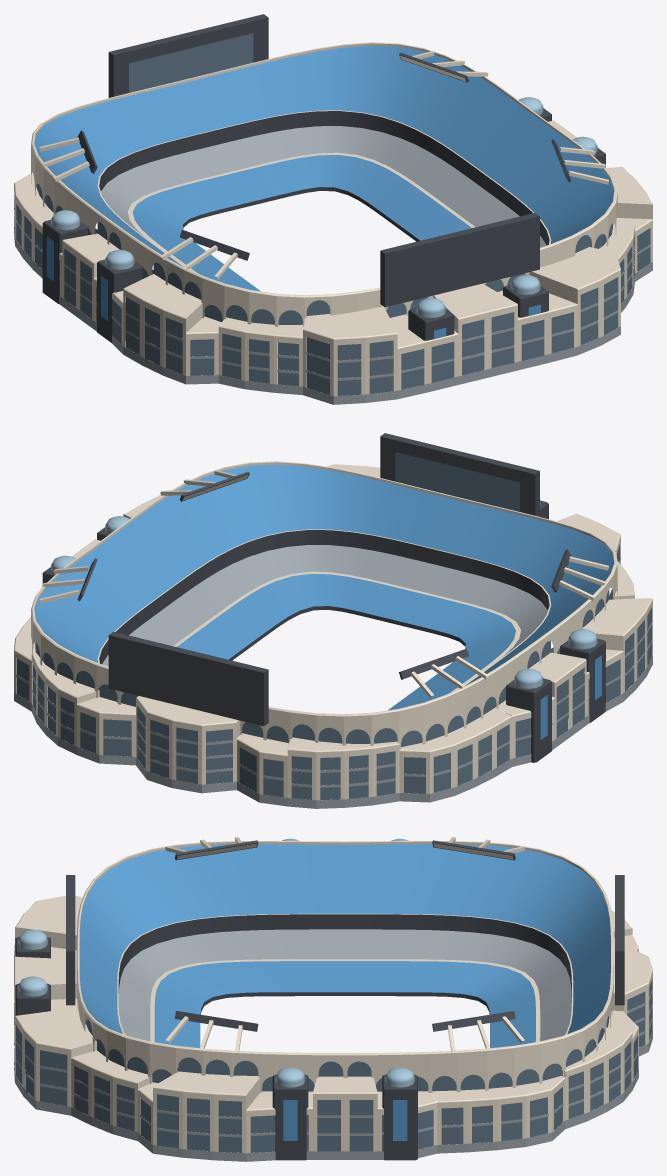
Rendered from bank-of-america-stadium.glb.
The picture shows the model from 3 angles, top to bottom: view 1: azimuth 30°, elevation 25°; view 2: azimuth 150°, elevation 25°; view 3: azimuth 270°, elevation 25°; orthographic projection.
Visible parts, largest first — view 1: Bank of America Stadium; view 2: Bank of America Stadium; view 3: Bank of America Stadium.
Part boxes in pixels (left/top/right/bottom): Bank of America Stadium: left=14, top=14, right=652, bottom=404; Bank of America Stadium: left=14, top=433, right=652, bottom=808; Bank of America Stadium: left=14, top=837, right=652, bottom=1161.
Bounding box in the file's own units: 245 × 58 × 268.
